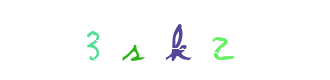2: (137, 0, 217, 80)
3: (93, 0, 173, 80)
K: (125, 0, 205, 80)
S: (121, 0, 201, 80)
